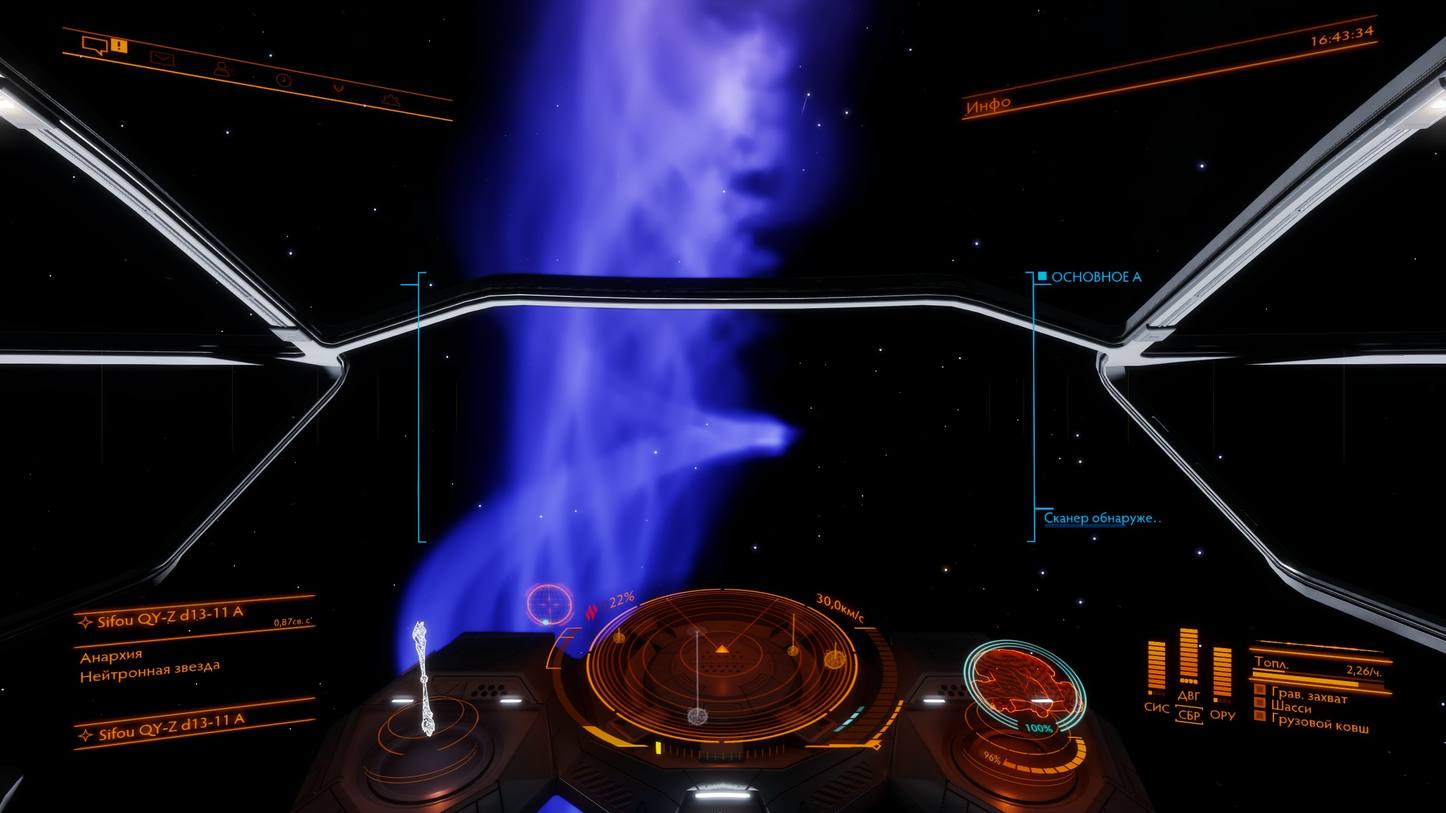jetcone: (375, 1, 886, 603)
